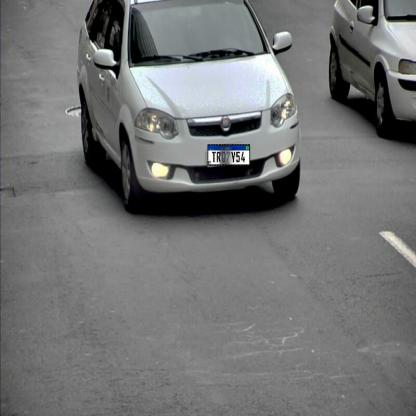PlacaM: (208, 144, 250, 166)
